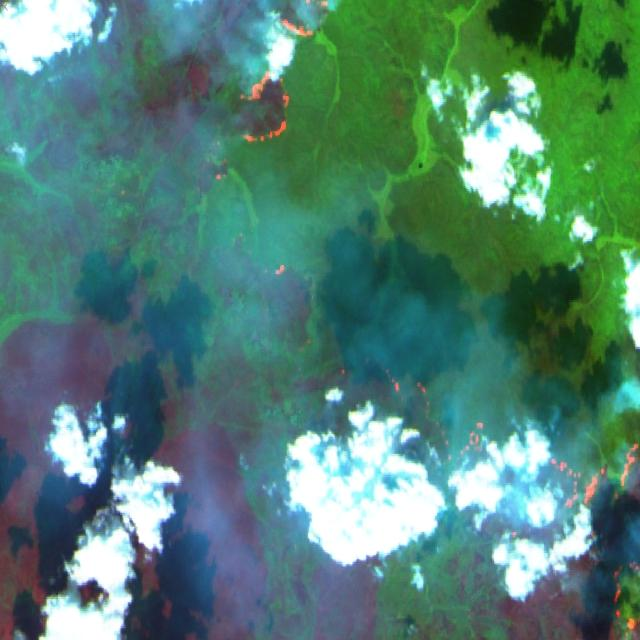fire: (381, 362, 640, 639), (237, 0, 336, 151)
